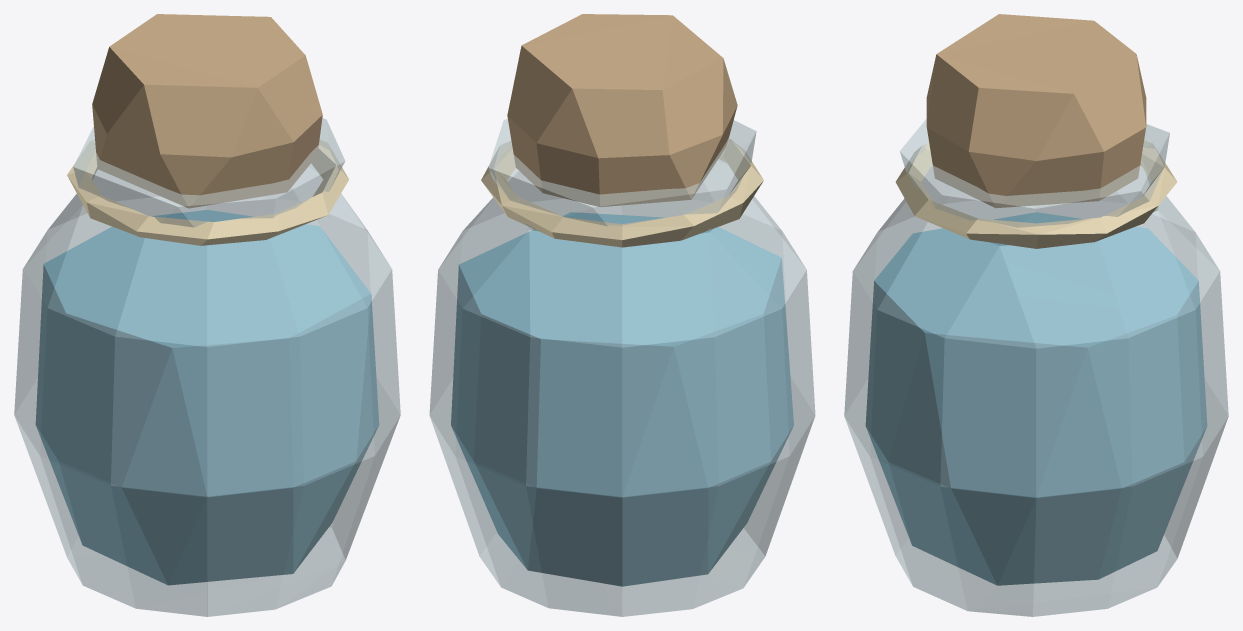
Rendered from 16-Crafting_frasco_agua.glb.
The picture shows the model from 3 angles, left to right: view 1: azimuth 30°, elevation 25°; view 2: azimuth 150°, elevation 25°; view 3: azimuth 270°, elevation 25°; orthographic projection.
Parts seen in each view (by area): view 1: SM_Frasco_M_Frasco_Vidrio, SM_Frasco_M_Frasco_Agua, SM_Frasco_M_Frasco_Corcho, SM_Frasco_M_Frasco_Cuerda; view 2: SM_Frasco_M_Frasco_Vidrio, SM_Frasco_M_Frasco_Agua, SM_Frasco_M_Frasco_Corcho, SM_Frasco_M_Frasco_Cuerda; view 3: SM_Frasco_M_Frasco_Vidrio, SM_Frasco_M_Frasco_Agua, SM_Frasco_M_Frasco_Corcho, SM_Frasco_M_Frasco_Cuerda.
Boxes of the visible parts, left/top/right/bottom form: SM_Frasco_M_Frasco_Vidrio: left=14, top=118, right=400, bottom=616; SM_Frasco_M_Frasco_Agua: left=35, top=210, right=379, bottom=585; SM_Frasco_M_Frasco_Corcho: left=92, top=14, right=322, bottom=208; SM_Frasco_M_Frasco_Cuerda: left=67, top=139, right=348, bottom=245; SM_Frasco_M_Frasco_Vidrio: left=429, top=119, right=815, bottom=616; SM_Frasco_M_Frasco_Agua: left=451, top=212, right=793, bottom=586; SM_Frasco_M_Frasco_Corcho: left=507, top=14, right=737, bottom=206; SM_Frasco_M_Frasco_Cuerda: left=481, top=138, right=763, bottom=247; SM_Frasco_M_Frasco_Vidrio: left=844, top=119, right=1228, bottom=616; SM_Frasco_M_Frasco_Agua: left=865, top=212, right=1207, bottom=585; SM_Frasco_M_Frasco_Corcho: left=926, top=14, right=1146, bottom=208; SM_Frasco_M_Frasco_Cuerda: left=895, top=140, right=1176, bottom=248.
Bounding box in the file's own units: 0.18 × 0.2619 × 0.18.
